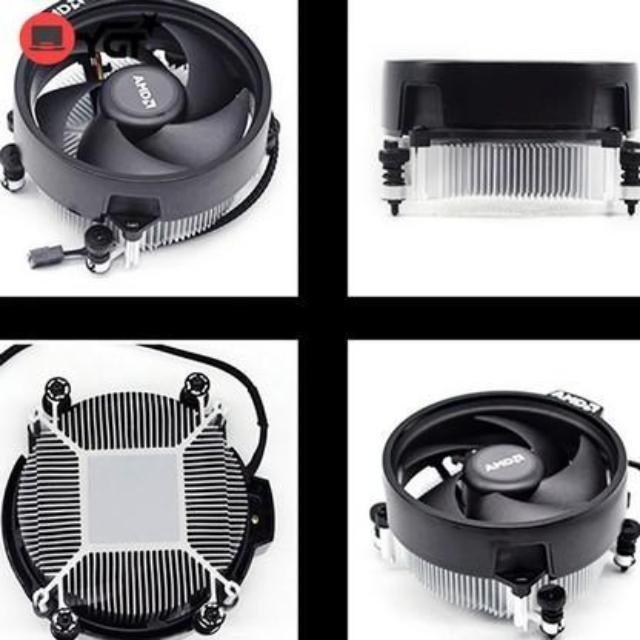CPU_Fan: (378, 392, 640, 628), (10, 5, 267, 242), (28, 380, 238, 637), (384, 51, 636, 216)
